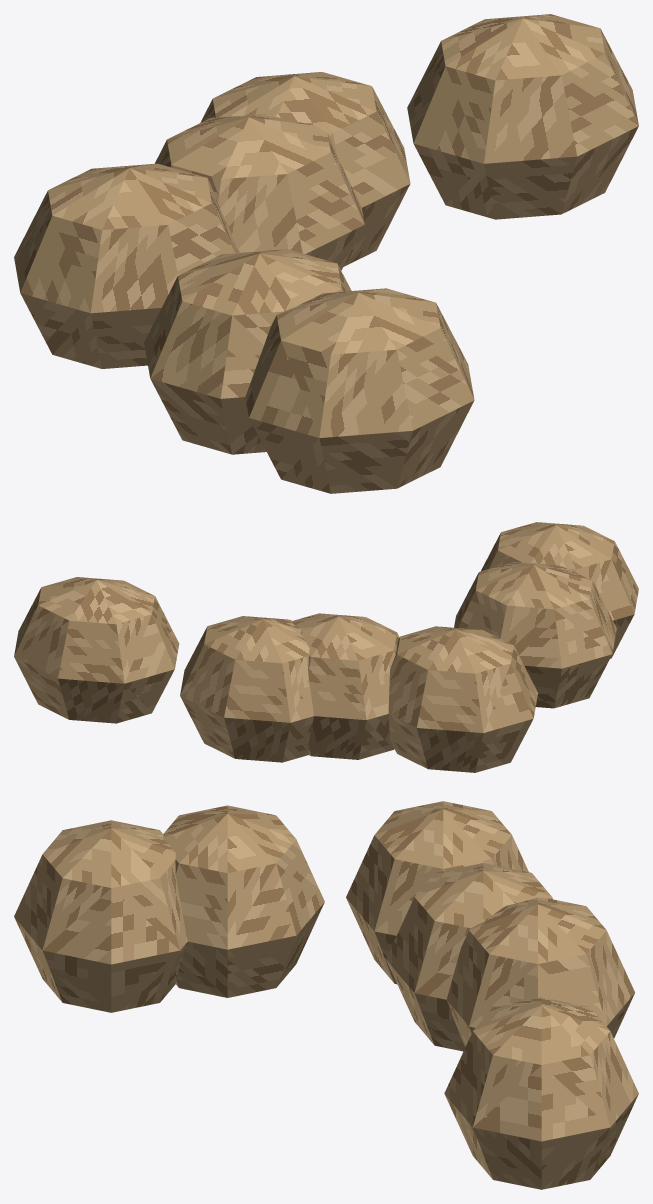
File: hickory_nut.glb
3 renders of one model, top to bottom at view 1: azimuth 30°, elevation 25°; view 2: azimuth 150°, elevation 25°; view 3: azimuth 270°, elevation 25°, orthographic. The views are drawn at different scales.
Parts seen in each view (by area): view 1: block_nut3, block_nut2, block_nut1, block_nut4, block_nut5, block_nut0; view 2: block_nut3, block_nut1, block_nut0, block_nut4, block_nut5, block_nut2; view 3: block_nut3, block_nut2, block_nut4, block_nut0, block_nut1, block_nut5.
Part boxes in pixels (x1,y1,x2,y2): block_nut3: [407, 14, 638, 219]; block_nut2: [245, 288, 474, 493]; block_nut1: [14, 163, 239, 368]; block_nut4: [144, 249, 351, 454]; block_nut5: [155, 114, 364, 270]; block_nut0: [200, 72, 410, 266]; block_nut3: [14, 577, 179, 723]; block_nut1: [388, 626, 537, 772]; block_nut0: [180, 616, 313, 762]; block_nut4: [454, 562, 616, 708]; block_nut5: [292, 613, 399, 759]; block_nut2: [481, 522, 638, 658]; block_nut3: [444, 997, 638, 1189]; block_nut2: [14, 820, 187, 1012]; block_nut4: [163, 805, 324, 997]; block_nut0: [446, 897, 634, 1046]; block_nut1: [346, 801, 528, 984]; block_nut5: [386, 863, 552, 1051].
Bounding box in the file's own units: 0.0852 × 0.024 × 0.0771.
Materials: 1 (1 with a texture image).
